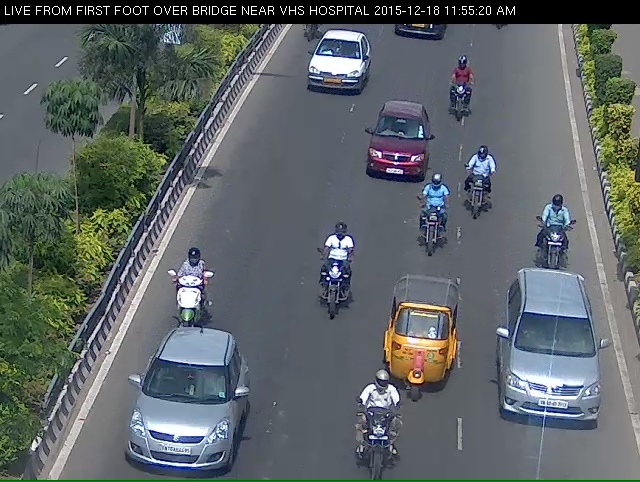Car: (497, 287, 616, 445), (114, 344, 243, 482), (378, 292, 457, 399), (364, 114, 432, 187), (298, 37, 368, 103)
Person: (307, 239, 360, 342), (348, 395, 414, 474), (407, 185, 456, 274), (160, 261, 209, 349), (456, 151, 500, 238), (534, 196, 571, 281), (441, 61, 485, 128)
